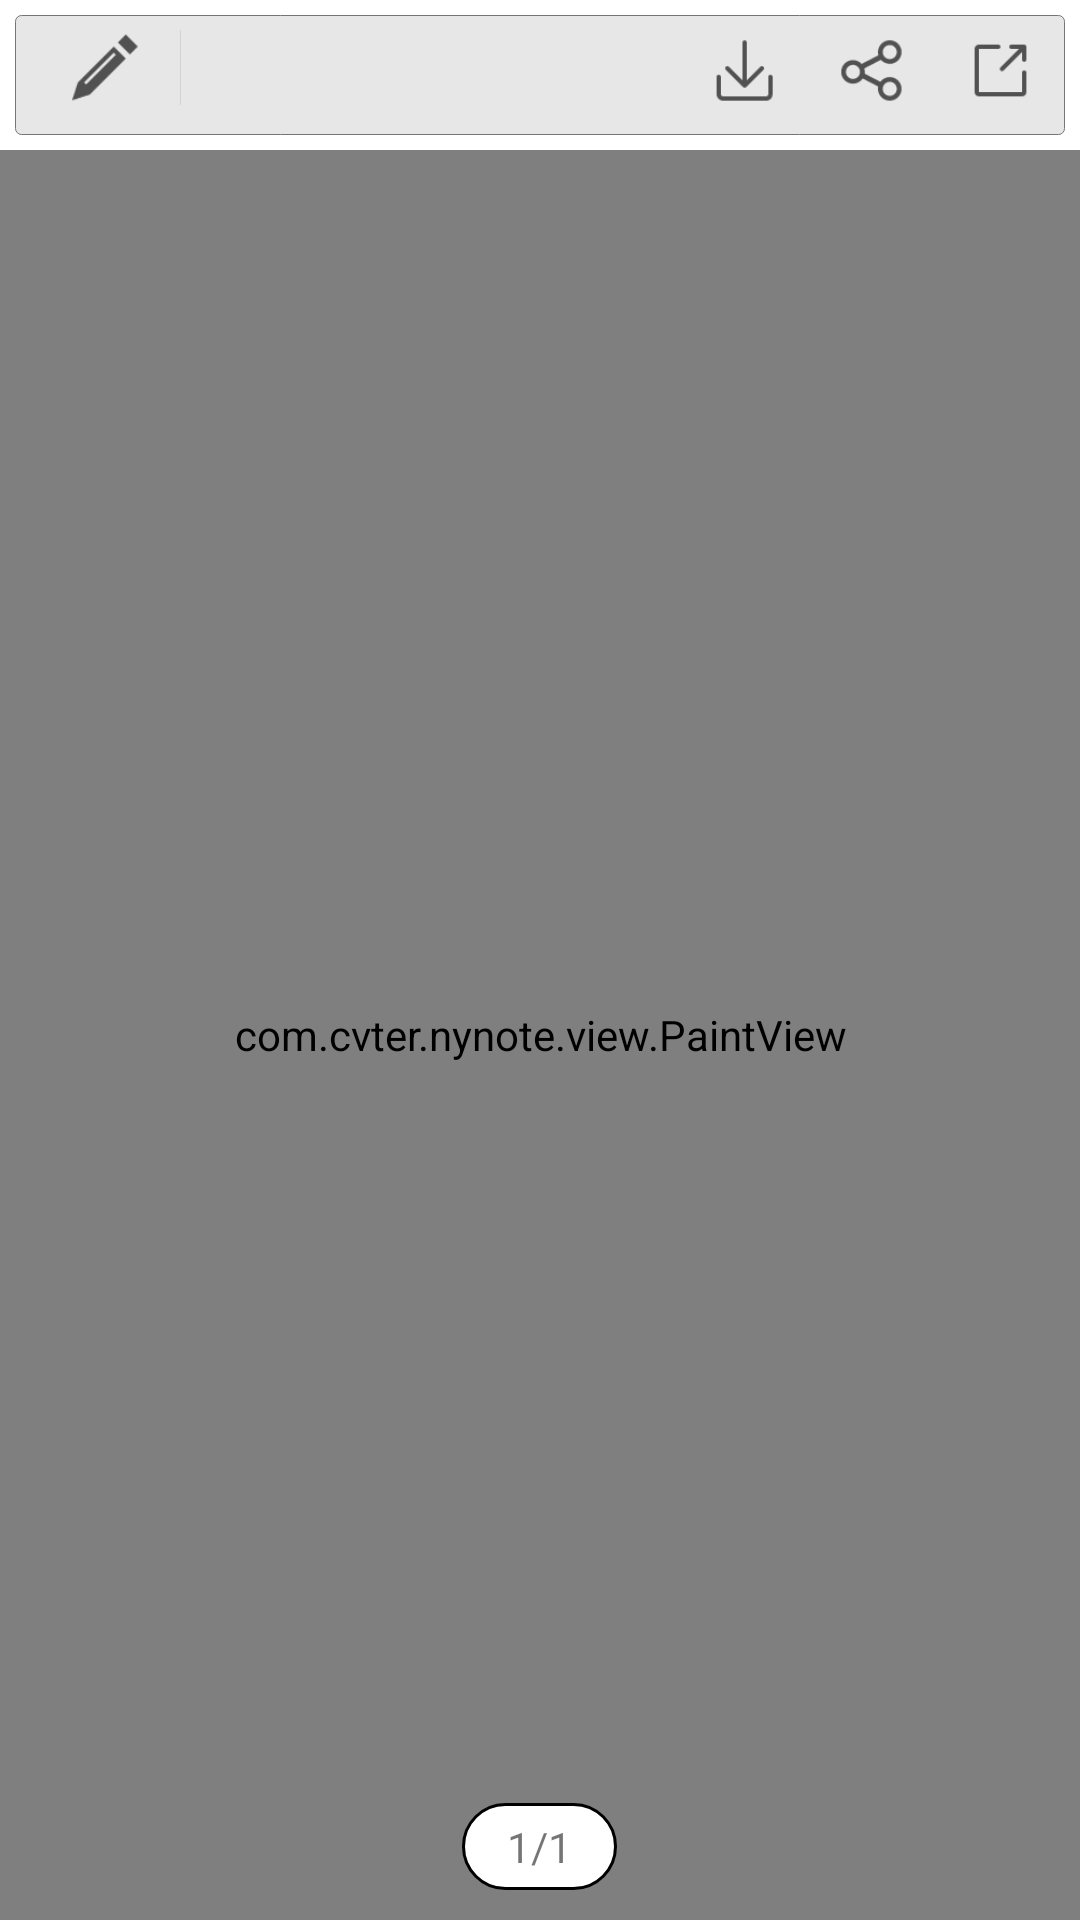

Icons on this 1080 x 1920 Android screen, each with its box as (left=x1, top=y1, right=x2, bottom=y2):
分享: (left=841, top=40, right=902, bottom=101)
导入: (left=716, top=40, right=773, bottom=101)
导出: (left=974, top=44, right=1027, bottom=97)
编辑: (left=72, top=34, right=138, bottom=101)
